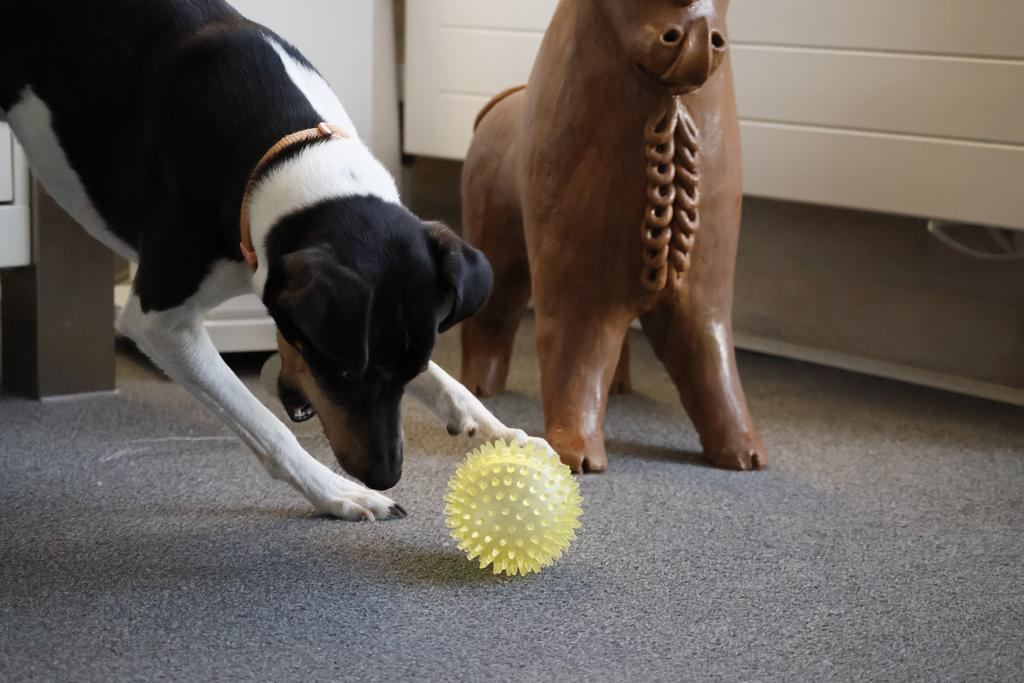Cattle: (448, 0, 779, 488)
Dog: (0, 0, 569, 532)
